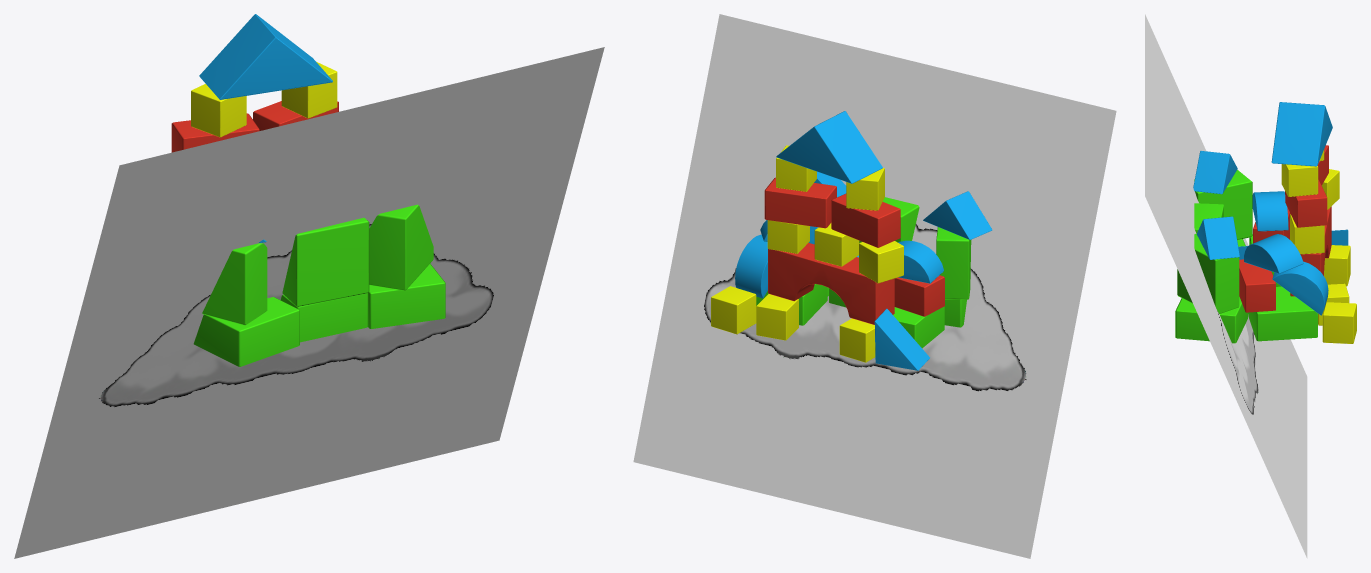
Rendered from Ghostcastle.fbx.
The picture shows the model from 3 angles, left to right: view 1: azimuth 30°, elevation 25°; view 2: azimuth 150°, elevation 25°; view 3: azimuth 270°, elevation 25°; orthographic projection. The views are drawn at different scales.
Parts seen in each view (by area): view 1: Cloud_01, pCube34, pCube33, pCube16, pCube19, pCube26, pCube17, pCube31, pCube24, pCube23, pCube18, pCube22; view 2: Cloud_01, pCube3, pCube34, pCube22, pCube18, pCube30, pCube26, pCube28, pCube29, pCube20, pCube8, polySurface3 (+11 smaller); view 3: Cloud_01, pCube34, pCube13, pCube19, pCube26, polySurface3, pCube17, polySurface4, pCube25, pCube28, pCube27, pCube29 (+12 smaller).
Part boxes in pixels (left/top/right/bottom): Cloud_01: left=14, top=47, right=604, bottom=558; pCube34: left=199, top=14, right=332, bottom=99; pCube33: left=282, top=217, right=369, bottom=306; pCube16: left=193, top=297, right=299, bottom=366; pCube19: left=369, top=204, right=433, bottom=290; pCube26: left=202, top=243, right=267, bottom=325; pCube17: left=368, top=263, right=445, bottom=328; pCube31: left=281, top=293, right=367, bottom=342; pCube24: left=191, top=84, right=246, bottom=137; pCube23: left=281, top=62, right=337, bottom=118; pCube18: left=171, top=113, right=259, bottom=152; pCube22: left=253, top=101, right=338, bottom=130; Cloud_01: left=633, top=14, right=1116, bottom=558; pCube3: left=768, top=242, right=894, bottom=324; pCube34: left=776, top=111, right=882, bottom=183; pCube22: left=764, top=177, right=836, bottom=228; pCube18: left=831, top=193, right=900, bottom=247; pCube30: left=874, top=308, right=929, bottom=370; pCube26: left=936, top=227, right=971, bottom=299; pCube28: left=923, top=191, right=992, bottom=239; pCube29: left=711, top=286, right=756, bottom=334; pCube20: left=756, top=294, right=798, bottom=340; pCube8: left=894, top=275, right=944, bottom=316; polySurface3: left=735, top=234, right=767, bottom=298; Cloud_01: left=1145, top=14, right=1307, bottom=558; pCube34: left=1271, top=102, right=1332, bottom=166; pCube13: left=1248, top=286, right=1317, bottom=341; pCube19: left=1177, top=233, right=1239, bottom=313; pCube26: left=1194, top=170, right=1252, bottom=239; polySurface3: left=1272, top=261, right=1328, bottom=315; pCube17: left=1175, top=297, right=1247, bottom=343; polySurface4: left=1244, top=234, right=1303, bottom=273; pCube25: left=1239, top=259, right=1275, bottom=312; pCube28: left=1193, top=151, right=1237, bottom=194; pCube27: left=1196, top=216, right=1239, bottom=259; pCube29: left=1322, top=302, right=1356, bottom=343.
Size of the model in its own units: 600 by 561 by 294.
2 materials, 2 textured.
